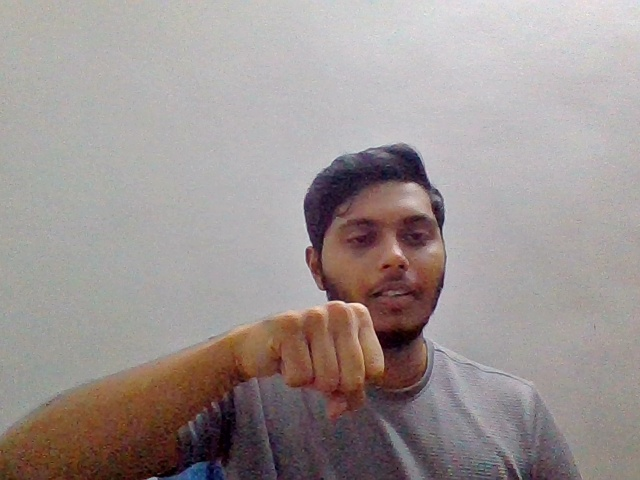Yes: (214, 296, 391, 423)
